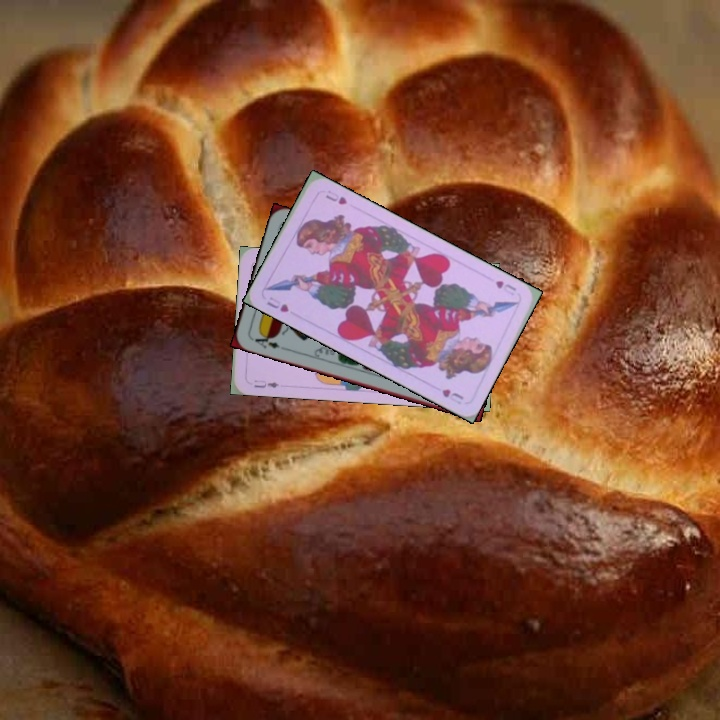EA: (248, 329, 282, 351)
EU: (250, 376, 282, 390)
HU: (263, 292, 291, 315), (491, 276, 519, 298)
